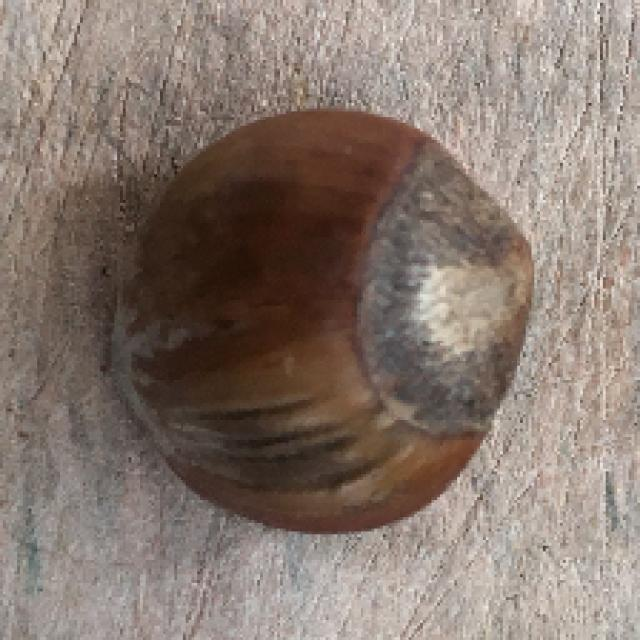qualityHazelnut: (103, 106, 539, 548)
